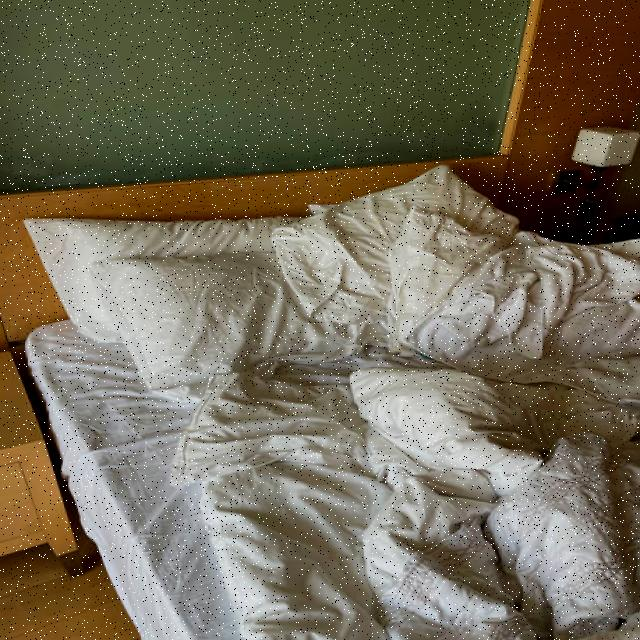bed: (38, 185, 640, 640)
